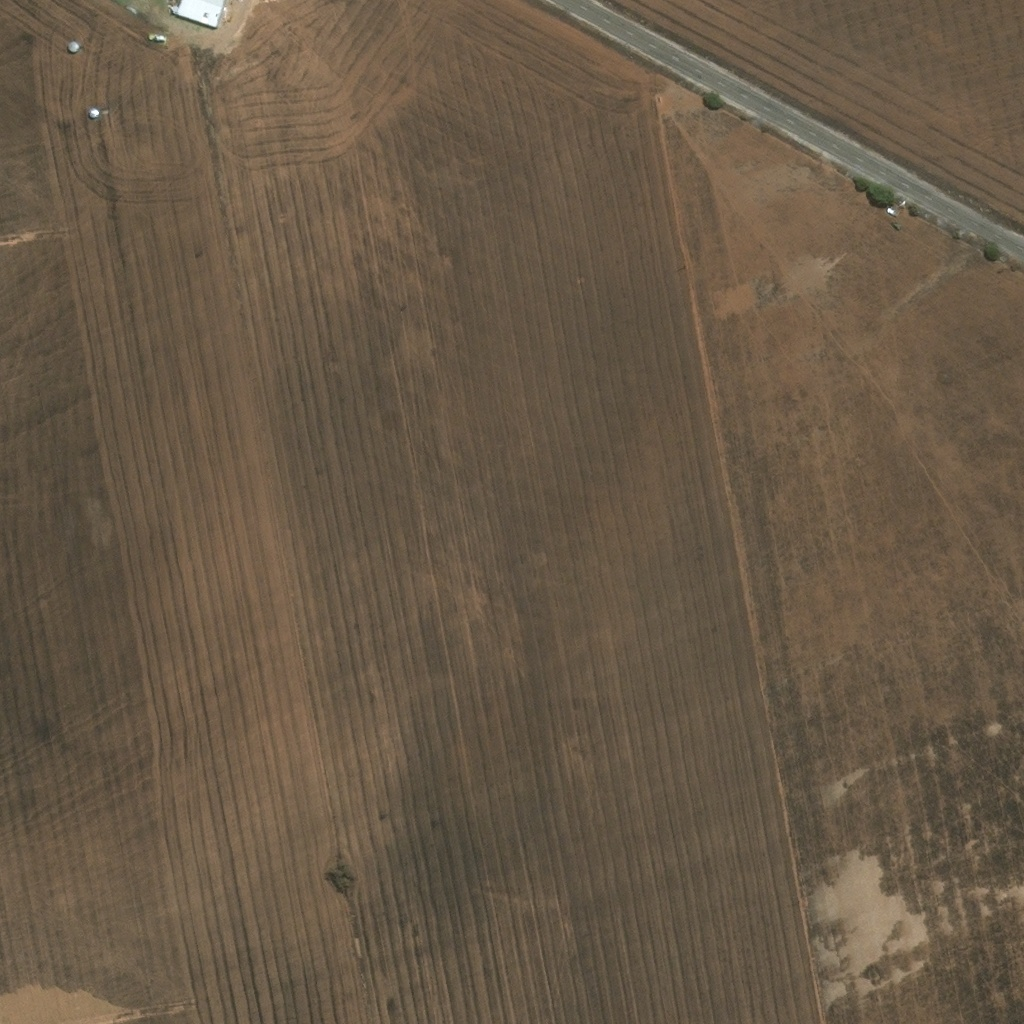4 un-classified: (454, 181, 466, 193)
